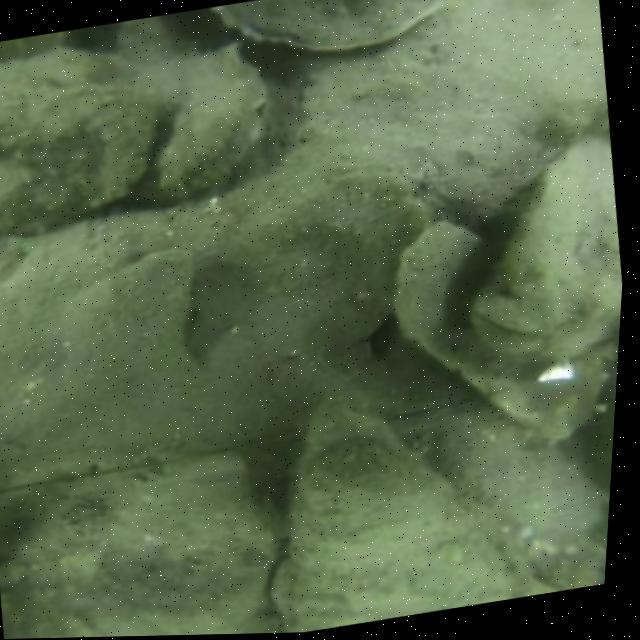Oyster-Closed: (285, 409, 532, 633), (218, 0, 437, 52)
Oyster-Indeterminate: (0, 448, 285, 639), (396, 218, 610, 438), (479, 129, 617, 357), (0, 55, 155, 234), (432, 408, 603, 556), (160, 49, 266, 197)
